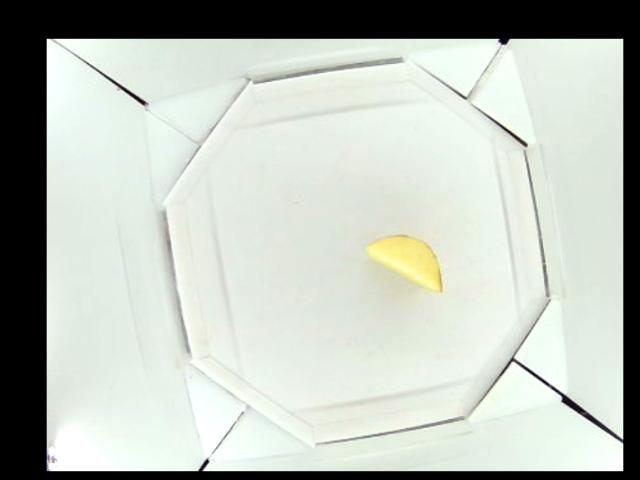Potato: (365, 233, 444, 293)
